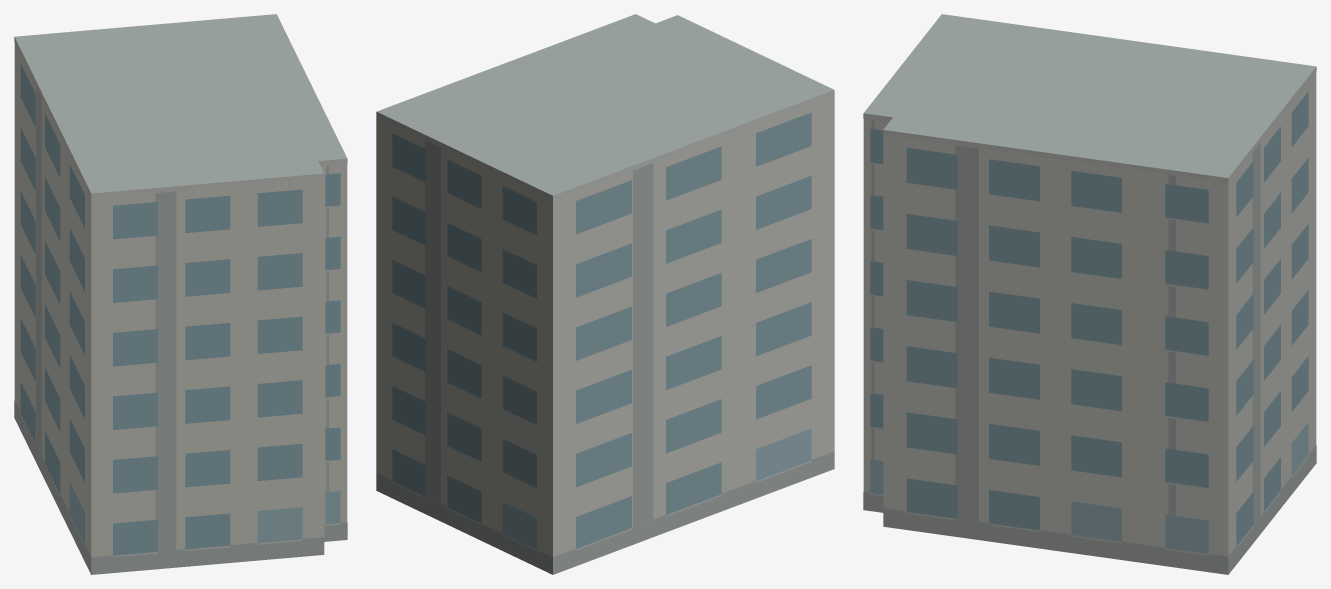
Rendered from survey-upis-32948643.glb.
3 renders of one model, left to right at view 1: azimuth 30°, elevation 25°; view 2: azimuth 150°, elevation 25°; view 3: azimuth 270°, elevation 25°, orthographic. The views are drawn at different scales.
Parts seen in each view (by area): view 1: survey-upis-32948643.tmp; view 2: survey-upis-32948643.tmp; view 3: survey-upis-32948643.tmp.
Part boxes in pixels (bbox=[...]): survey-upis-32948643.tmp: bbox=[14, 14, 347, 574]; survey-upis-32948643.tmp: bbox=[376, 14, 834, 574]; survey-upis-32948643.tmp: bbox=[863, 14, 1316, 574].
Bounding box in the file's own units: 16.23 × 18.3 × 18.94.
